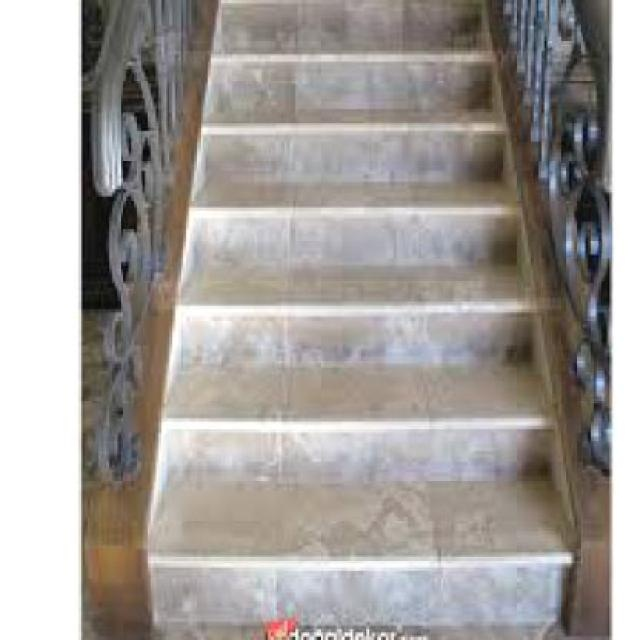stair: (100, 0, 589, 615)
